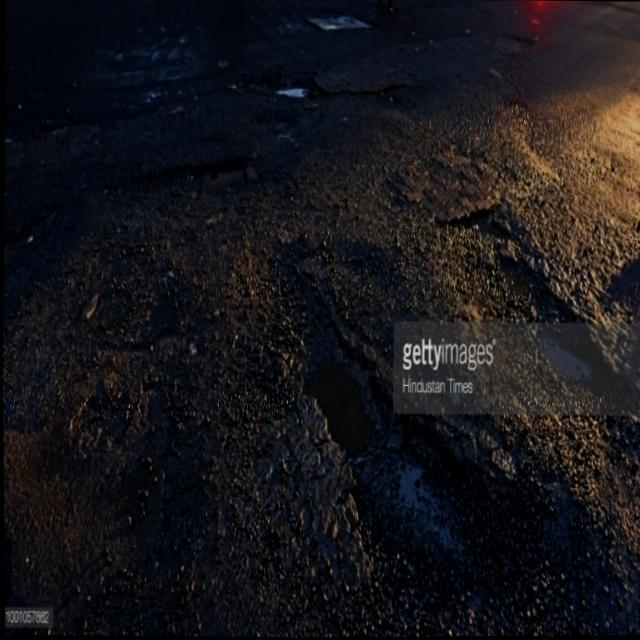Pothole: (288, 273, 639, 638), (472, 215, 640, 423), (134, 161, 249, 201), (272, 80, 318, 104)
